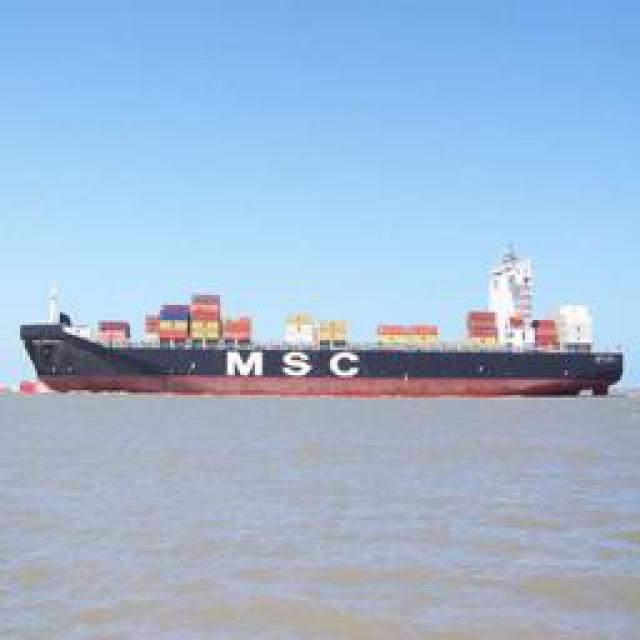Ship: (21, 256, 621, 396)
